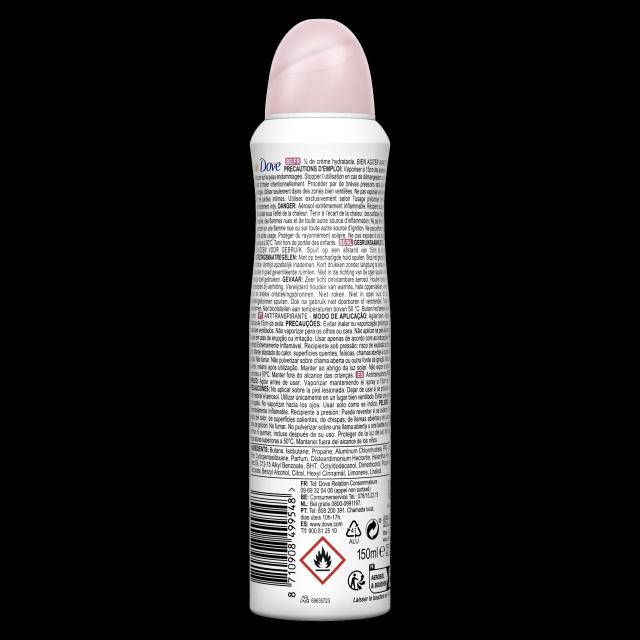GHS_Symbol_FLAME: (299, 536, 346, 586)
